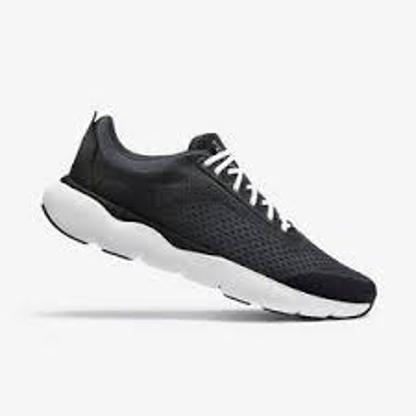not trash: (36, 114, 374, 322)
